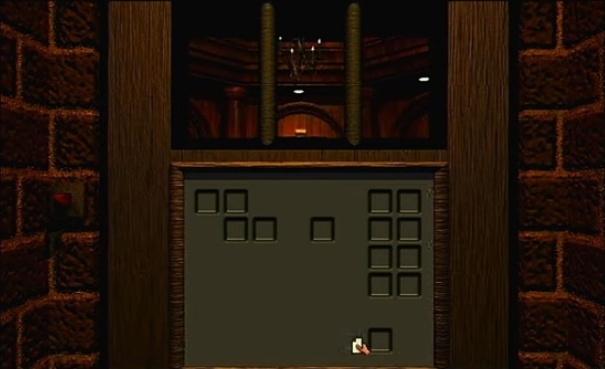Keep: (349, 333, 372, 356)
